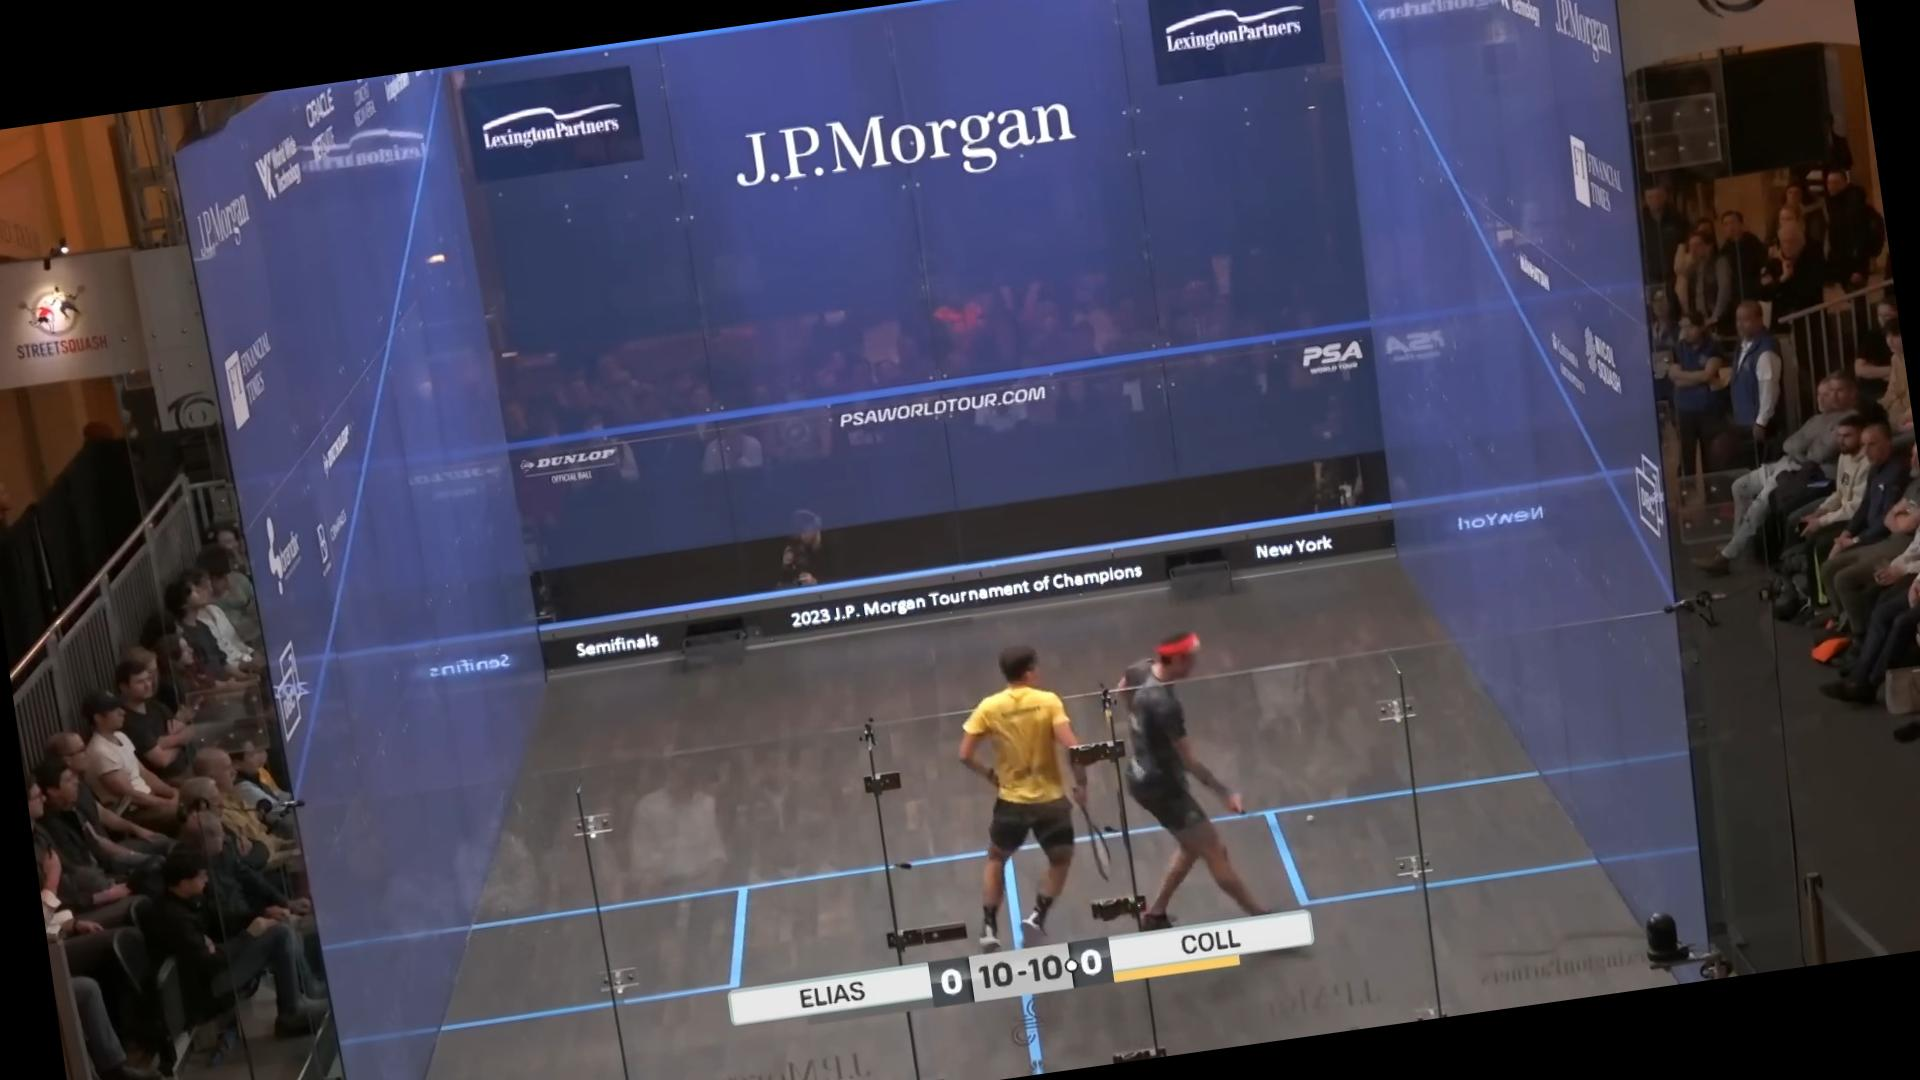Racket: (1072, 789, 1122, 893)
